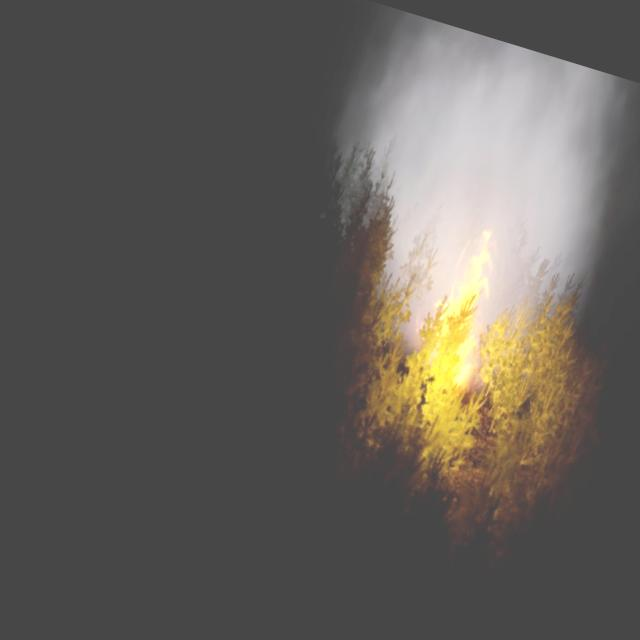fire: (415, 218, 515, 394)
smoke: (287, 4, 640, 398)
